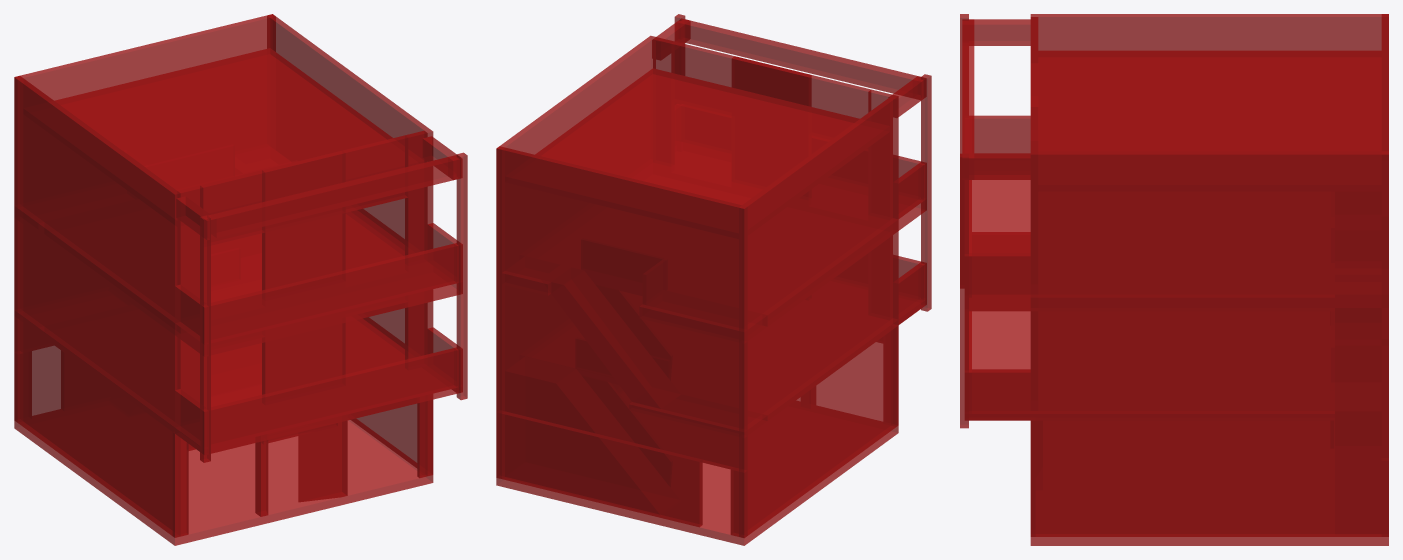
The model's file is SM_Bld_Shop_04_Collision.fbx.
3 renders of one model, left to right at view 1: azimuth 30°, elevation 25°; view 2: azimuth 150°, elevation 25°; view 3: azimuth 270°, elevation 25°, orthographic. The views are drawn at different scales.
Parts seen in each view (by area): view 1: SM_Bld_Shop_04_Collision; view 2: SM_Bld_Shop_04_Collision; view 3: SM_Bld_Shop_04_Collision.
Boxes of the visible parts, box(x1,y1,x2,y2) form: SM_Bld_Shop_04_Collision: box(14, 14, 467, 545); SM_Bld_Shop_04_Collision: box(496, 14, 931, 545); SM_Bld_Shop_04_Collision: box(960, 14, 1388, 545).
Size of the model in its own units: 915 by 1164 by 1156.
